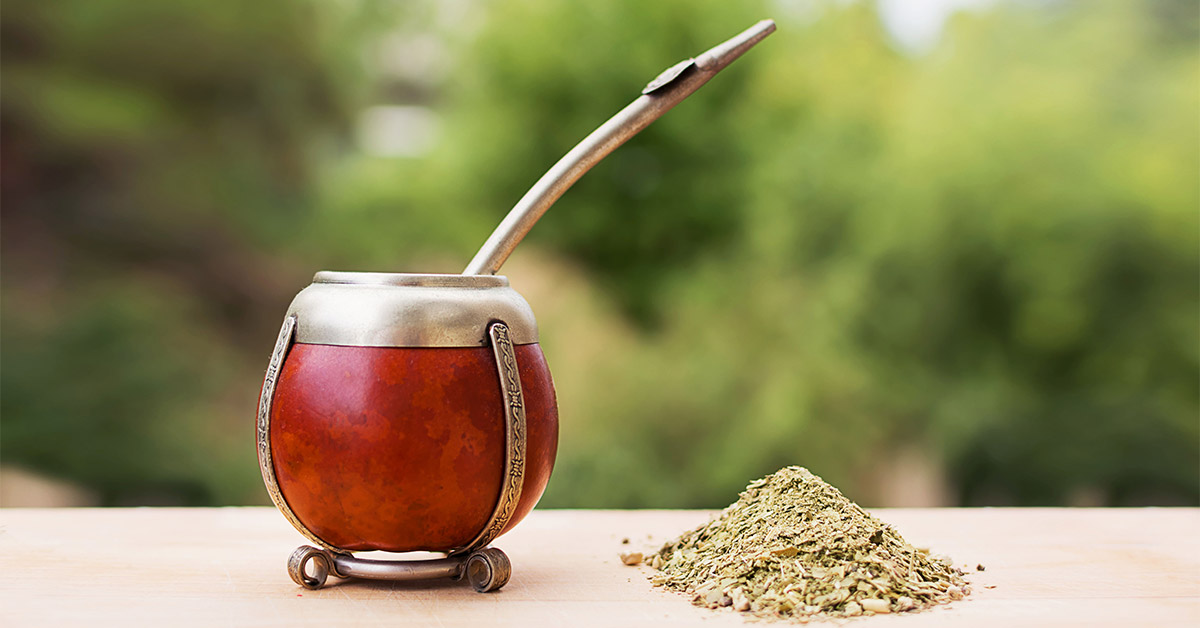guampa: (142, 4, 778, 592)
